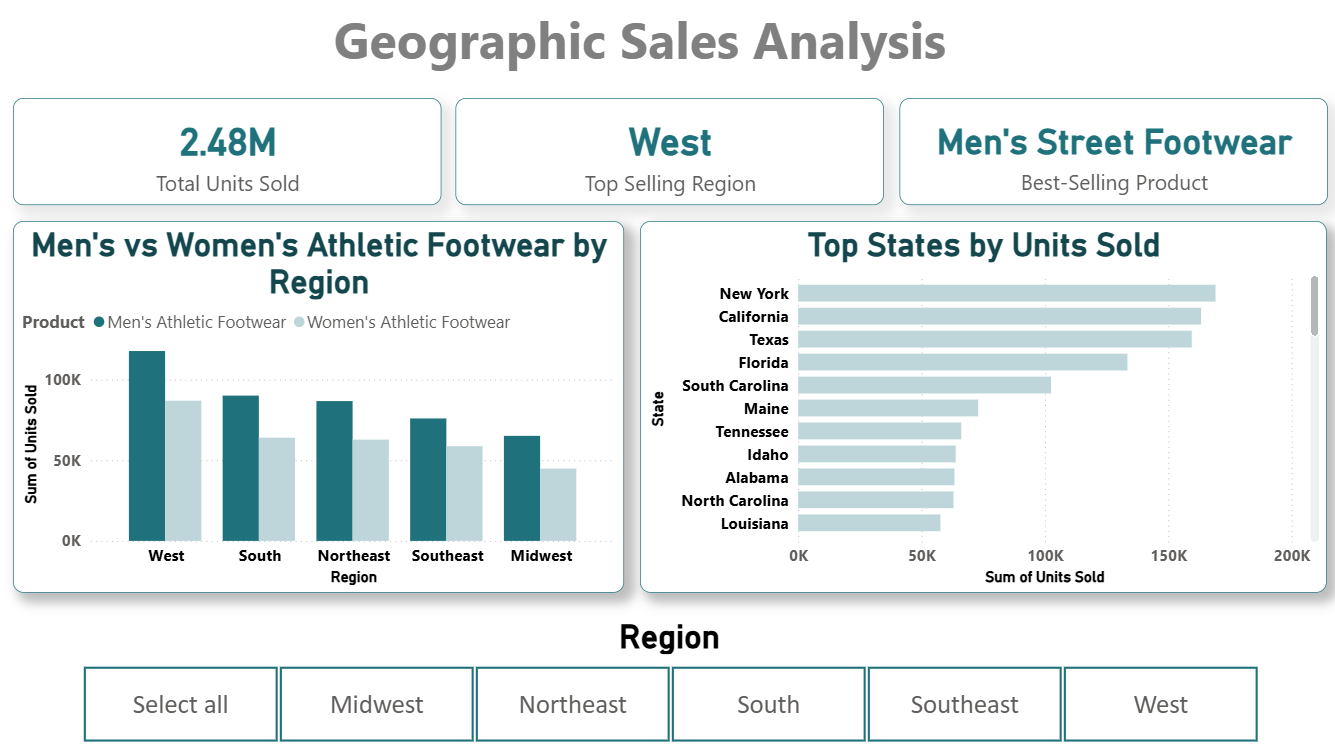

Layout of this report page (visuals, bound fields, positions):
{"tool":"powerbi","page":{"name":"Geographic Sales Analysis","canvas":[1280,720],"ordinal":1},"visuals":[{"type":"clusteredColumnChart","title":"Men''s vs Women''s Athletic Footwear by Region","fields":{"Category":["Dim_Geography.Region"],"Series":["Dim_Product.Product"],"Y":["Sum(Fact_Sales.Units Sold)"]},"box":[14,212,582,354],"z":0},{"type":"slicer","title":"Region","fields":{"Values":["Dim_Geography.Region"]},"box":[56,588,1168,126],"z":1000},{"type":"card","fields":{"Values":["MeasuresTable.Total Units Sold"]},"box":[14,94,408,102],"z":2000},{"type":"clusteredBarChart","title":"Top States by Units Sold","fields":{"Y":["Sum(Fact_Sales.Units Sold)"],"Category":["Dim_Geography.State"]},"box":[612,212,654,354],"z":3000},{"type":"textbox","box":[242,0,740,86],"z":4000},{"type":"card","fields":{"Values":["MeasuresTable.Top Selling Region"]},"box":[436,94,408,102],"z":5000},{"type":"card","fields":{"Values":["MeasuresTable.Most Sold Product Name"]},"box":[858,94,408,102],"z":6000}]}

Visuals, with their boxes in screenshot pixels (x1, y1, x2, y2), scaled from the page's 1280x720 canvas onto the 1335x751 screenshot:
"Men''s vs Women''s Athletic Footwear by Region" clusteredColumnChart: {"x1": 15, "y1": 221, "x2": 622, "y2": 590}
"Region" slicer: {"x1": 58, "y1": 613, "x2": 1277, "y2": 745}
card - MeasuresTable.Total Units Sold: {"x1": 15, "y1": 98, "x2": 440, "y2": 204}
"Top States by Units Sold" clusteredBarChart: {"x1": 638, "y1": 221, "x2": 1320, "y2": 590}
textbox: {"x1": 252, "y1": 0, "x2": 1024, "y2": 90}
card - MeasuresTable.Top Selling Region: {"x1": 455, "y1": 98, "x2": 880, "y2": 204}
card - MeasuresTable.Most Sold Product Name: {"x1": 895, "y1": 98, "x2": 1320, "y2": 204}
